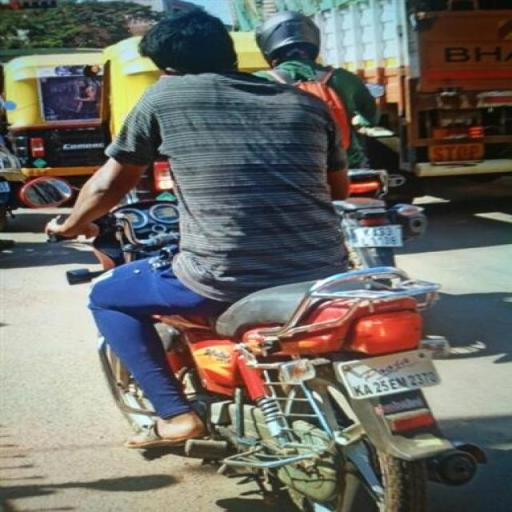using mobile: (154, 59, 193, 80)
